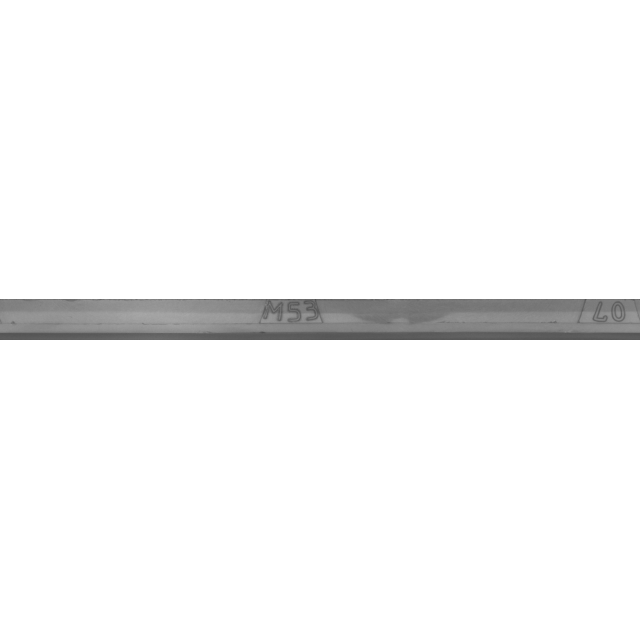mohao: (195, 270, 395, 370)
xuehao: (505, 270, 640, 370)
